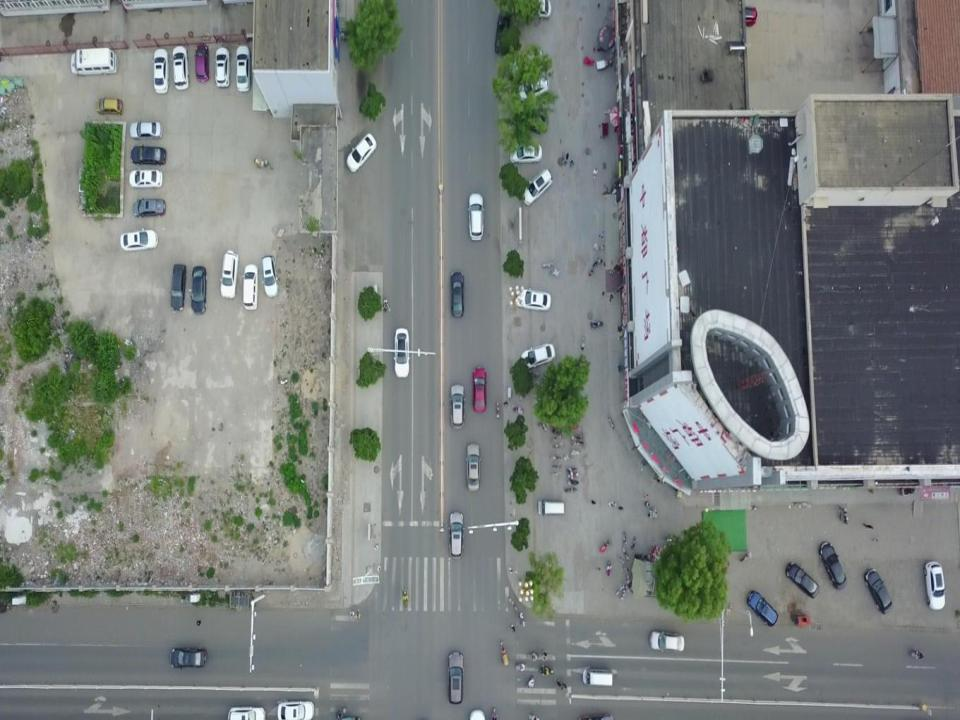car: (819, 541, 847, 591), (863, 568, 893, 614), (785, 562, 819, 598), (746, 589, 778, 627), (522, 168, 554, 205), (347, 133, 376, 172), (923, 561, 946, 610), (508, 47, 542, 79), (520, 343, 556, 369), (220, 250, 239, 298), (518, 74, 550, 102), (516, 105, 548, 133), (120, 228, 158, 251), (516, 287, 552, 311), (448, 651, 464, 704), (191, 266, 208, 314), (169, 264, 186, 312), (394, 328, 410, 378), (152, 47, 169, 94), (170, 649, 208, 670), (131, 144, 166, 166), (448, 510, 464, 558), (467, 442, 482, 492), (171, 45, 188, 89), (650, 630, 685, 651), (495, 10, 512, 53), (514, 0, 552, 19), (469, 193, 484, 241), (261, 255, 278, 297), (129, 119, 163, 140), (133, 198, 166, 219), (243, 264, 258, 310), (235, 45, 250, 91), (472, 366, 487, 412), (449, 385, 465, 428), (130, 168, 162, 189), (450, 271, 464, 318), (511, 143, 542, 164), (278, 701, 314, 719), (214, 47, 230, 87), (726, 6, 758, 26), (194, 45, 210, 82), (228, 706, 265, 719), (97, 96, 122, 115)
van: (69, 47, 117, 76), (582, 668, 612, 686), (537, 499, 565, 517)
